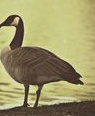goose: (1, 12, 86, 113)
